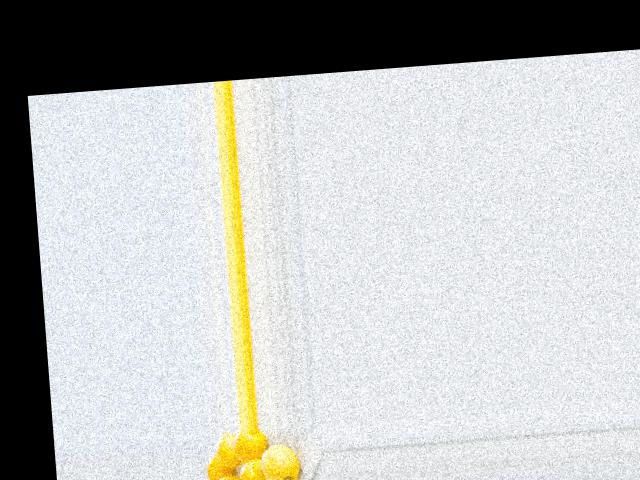lemon: (256, 438, 301, 480)
